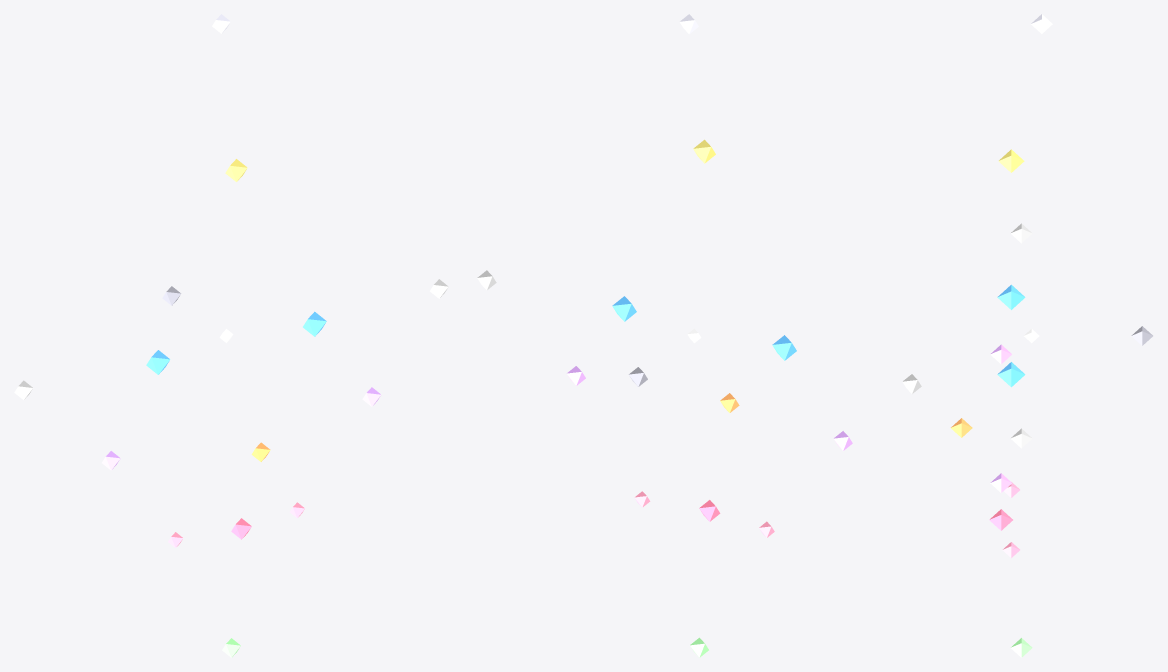
File: markers.glb
3 renders of one model, left to right at view 1: azimuth 30°, elevation 25°; view 2: azimuth 150°, elevation 25°; view 3: azimuth 270°, elevation 25°, orthographic. The views are drawn at different scales.
Parts seen in each view (by area): view 1: face_markers; view 2: face_markers; view 3: face_markers.
Part boxes in pixels (x1,y1,x2,y2): face_markers: (14,14,448,657); face_markers: (477,14,921,657); face_markers: (951,14,1152,657).
Bounding box in the file's own units: 1 × 1.4 × 0.4.
